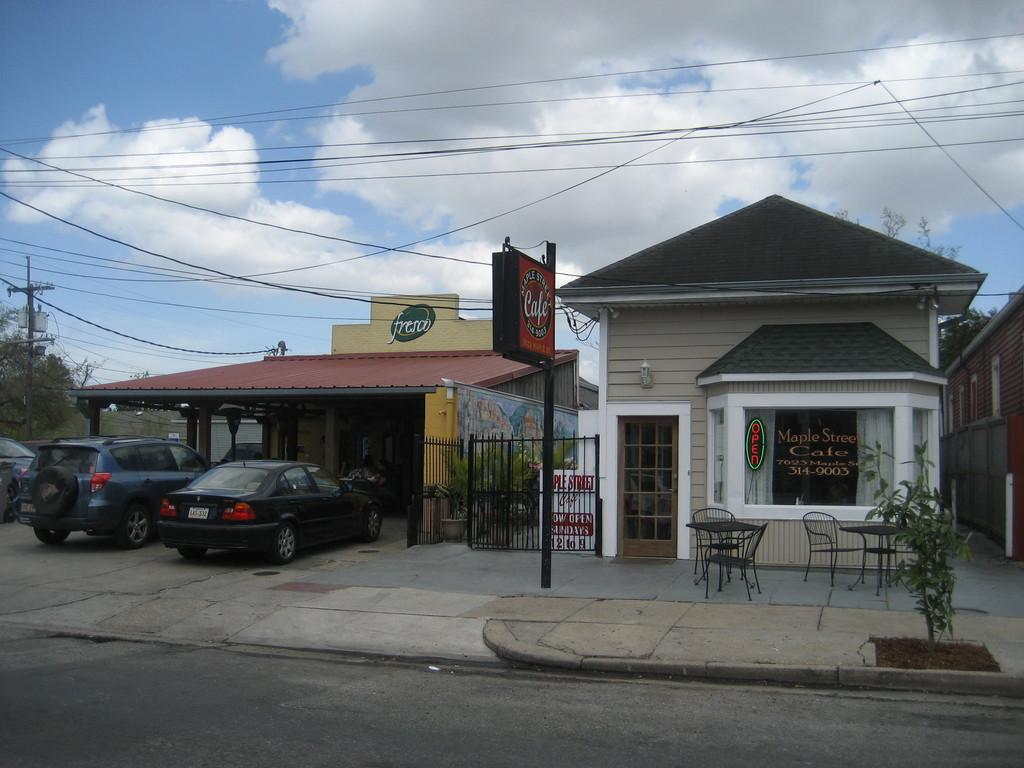Car: (138, 458, 369, 568), (9, 431, 218, 552), (0, 436, 44, 515)
